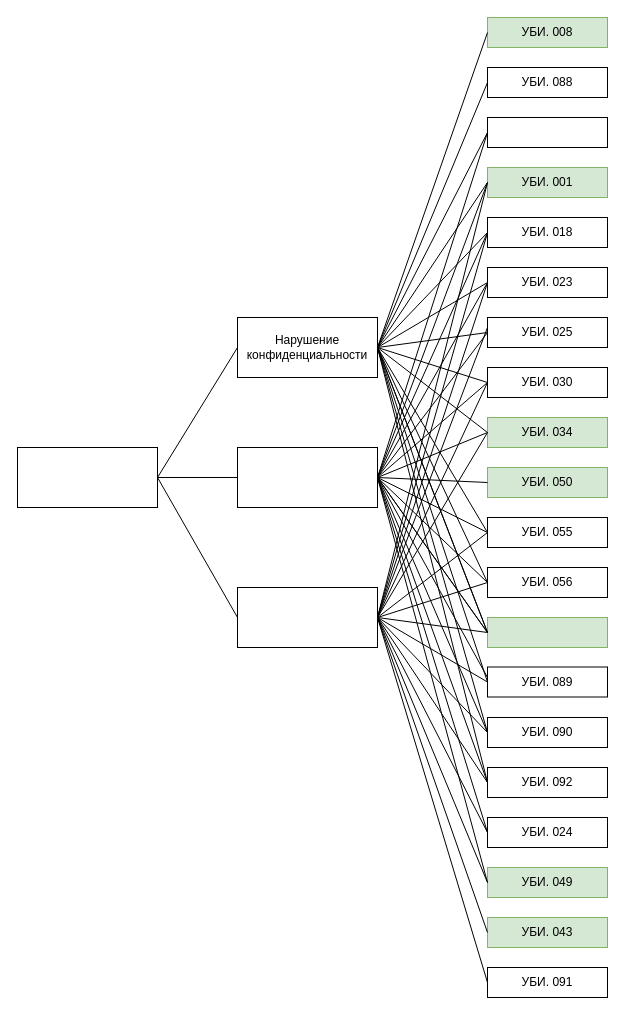
This 625x1015 diagram has some shape labels left out. Here are the shapes that lost their labels. From the top down, the centre of each, then its label:
[547,132]: УБИ. 069
[87,477]: Угрозы
[307,477]: Нарушение целостности
[307,617]: Нарушение доступности
[547,632]: УБИ. 081
